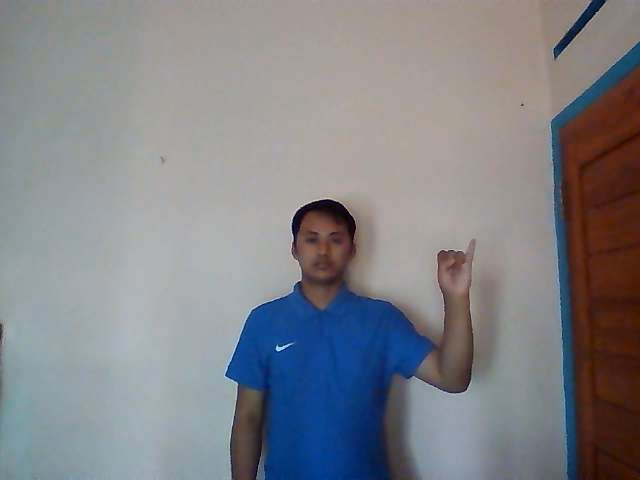I: (436, 239, 477, 297)
